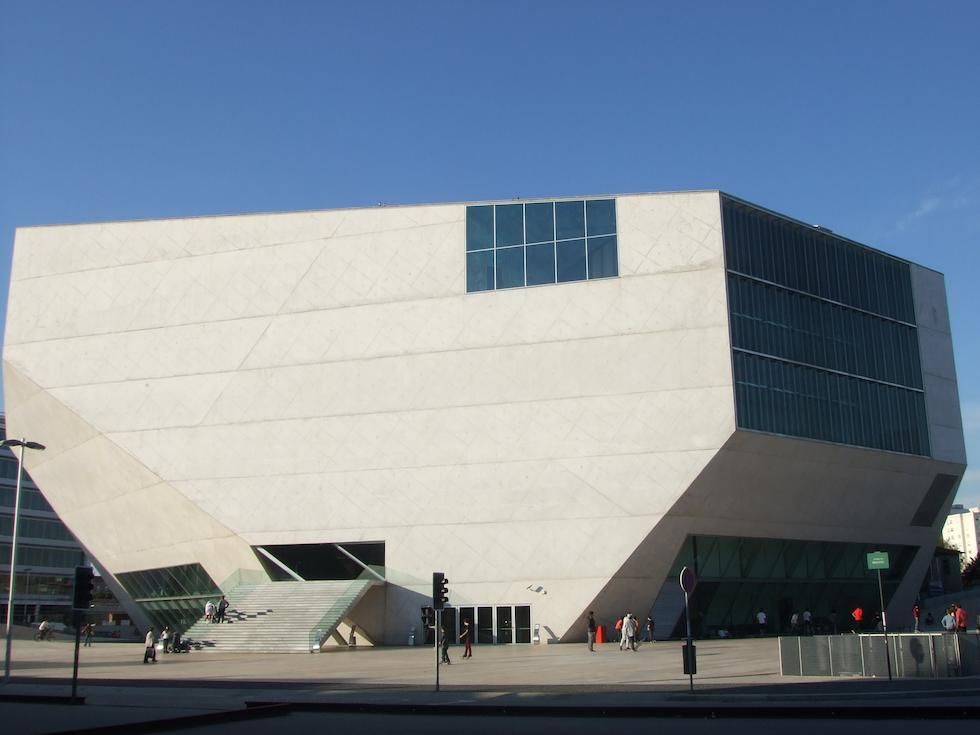musica: (0, 188, 966, 648)
